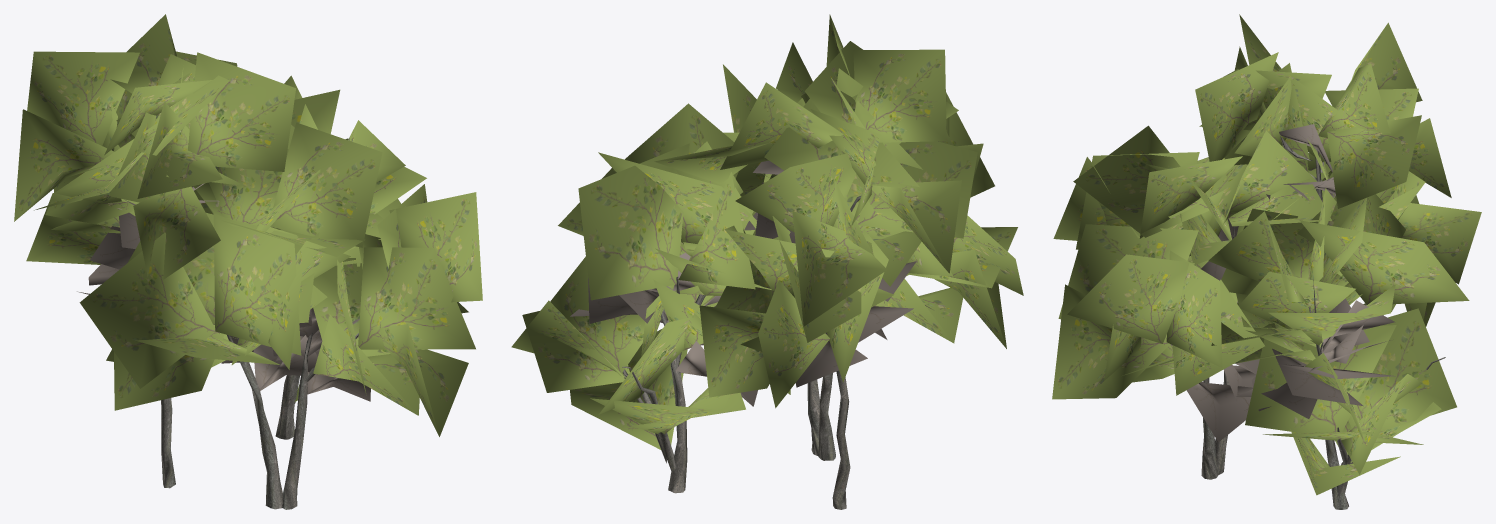
The model's file is sm_BushGroup_01_01.fbx.
3 renders of one model, left to right at view 1: azimuth 30°, elevation 25°; view 2: azimuth 150°, elevation 25°; view 3: azimuth 270°, elevation 25°, orthographic. The views are drawn at different scales.
Parts seen in each view (by area): view 1: sm_BushGroup_01_01_LOD0; view 2: sm_BushGroup_01_01_LOD0; view 3: sm_BushGroup_01_01_LOD0.
Part boxes in pixels (bbox=[...]): sm_BushGroup_01_01_LOD0: bbox=[14, 14, 482, 509]; sm_BushGroup_01_01_LOD0: bbox=[511, 14, 1023, 509]; sm_BushGroup_01_01_LOD0: bbox=[1052, 14, 1481, 509].
Bounding box in the file's own units: 221 × 214 × 220.
